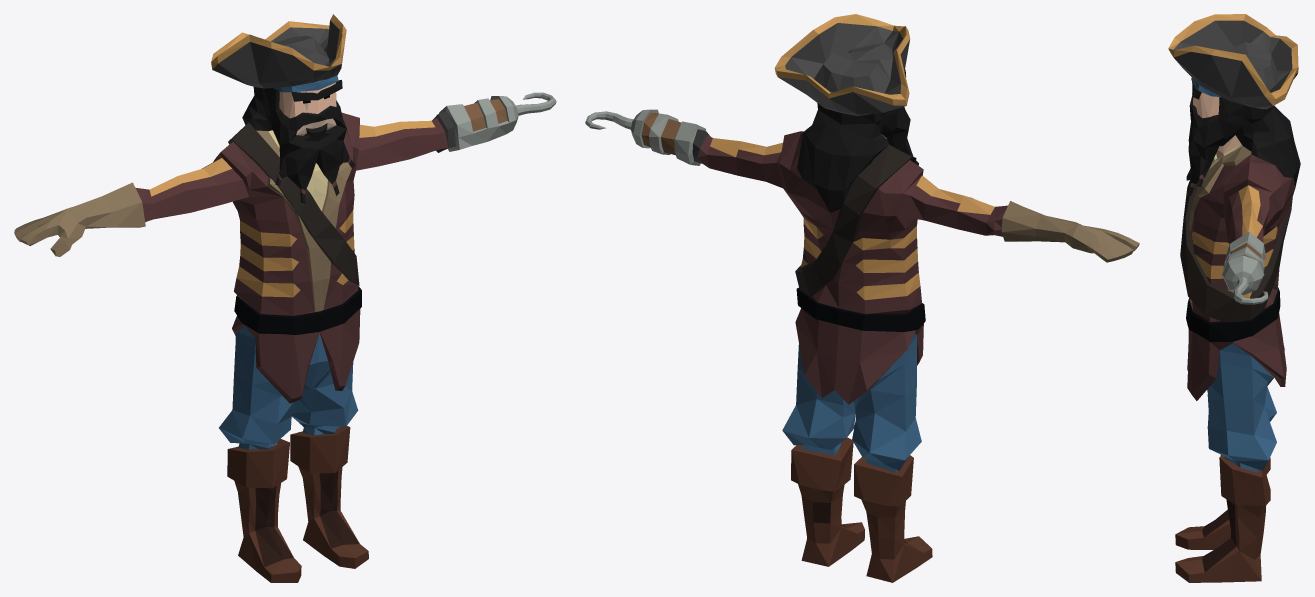
The model's file is vendedor.fbx.
3 renders of one model, left to right at view 1: azimuth 30°, elevation 25°; view 2: azimuth 150°, elevation 25°; view 3: azimuth 270°, elevation 25°, orthographic.
Parts seen in each view (by area): view 1: Character_Pirate_blackbeard_01; view 2: Character_Pirate_blackbeard_01; view 3: Character_Pirate_blackbeard_01.
Part boxes in pixels (x1=…): Character_Pirate_blackbeard_01: x1=14, y1=14, x2=556, y2=582; Character_Pirate_blackbeard_01: x1=585, y1=14, x2=1139, y2=582; Character_Pirate_blackbeard_01: x1=1168, y1=14, x2=1300, y2=582.
Size of the model in its own units: 78.93 by 16.79 by 73.71.
1 material, 1 textured.
